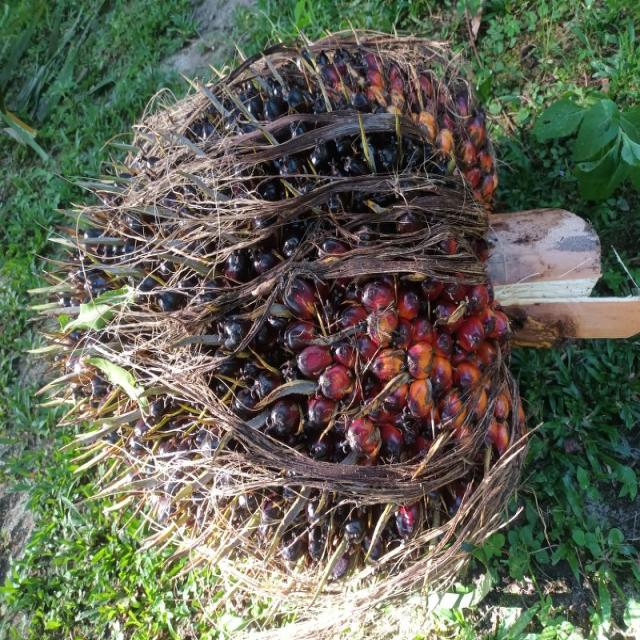fraksi 1: (50, 12, 559, 556)
